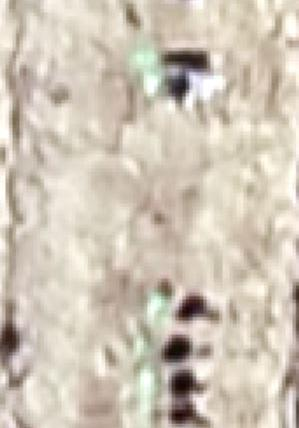cotton: (131, 51, 161, 72), (139, 373, 161, 396), (135, 407, 163, 425), (142, 69, 160, 95), (134, 334, 156, 354), (148, 295, 167, 315)
